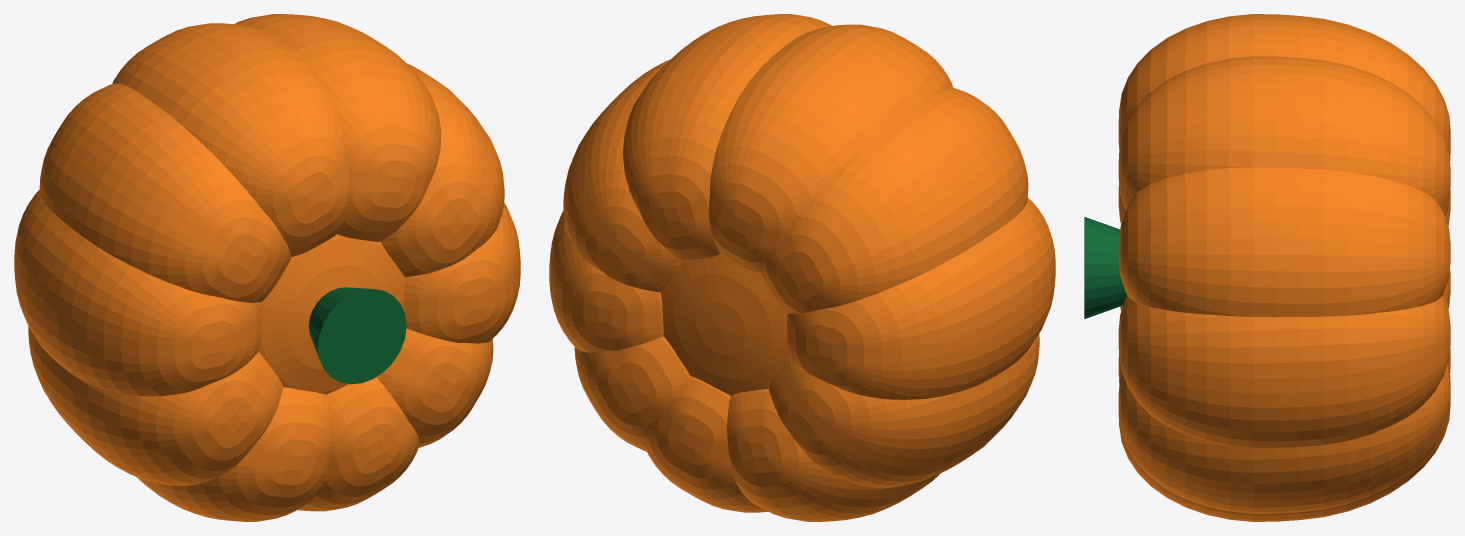
File: pumpkin.obj
The picture shows the model from 3 angles, left to right: view 1: azimuth 30°, elevation 25°; view 2: azimuth 150°, elevation 25°; view 3: azimuth 270°, elevation 25°; orthographic projection.
Visible parts, largest first — view 1: group_0_16089887, group_0_1206582; view 2: group_0_16089887; view 3: group_0_16089887, group_0_1206582.
Boxes of the visible parts, box(x1,y1,x2,y2) form: group_0_16089887: box(14, 14, 520, 521); group_0_1206582: box(308, 287, 406, 384); group_0_16089887: box(549, 14, 1055, 521); group_0_16089887: box(1118, 14, 1450, 521); group_0_1206582: box(1084, 217, 1127, 318).
Bounding box in the file's own units: 13.64 × 13.56 × 9.78.
